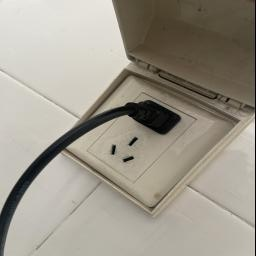outlet: (36, 59, 248, 221)
